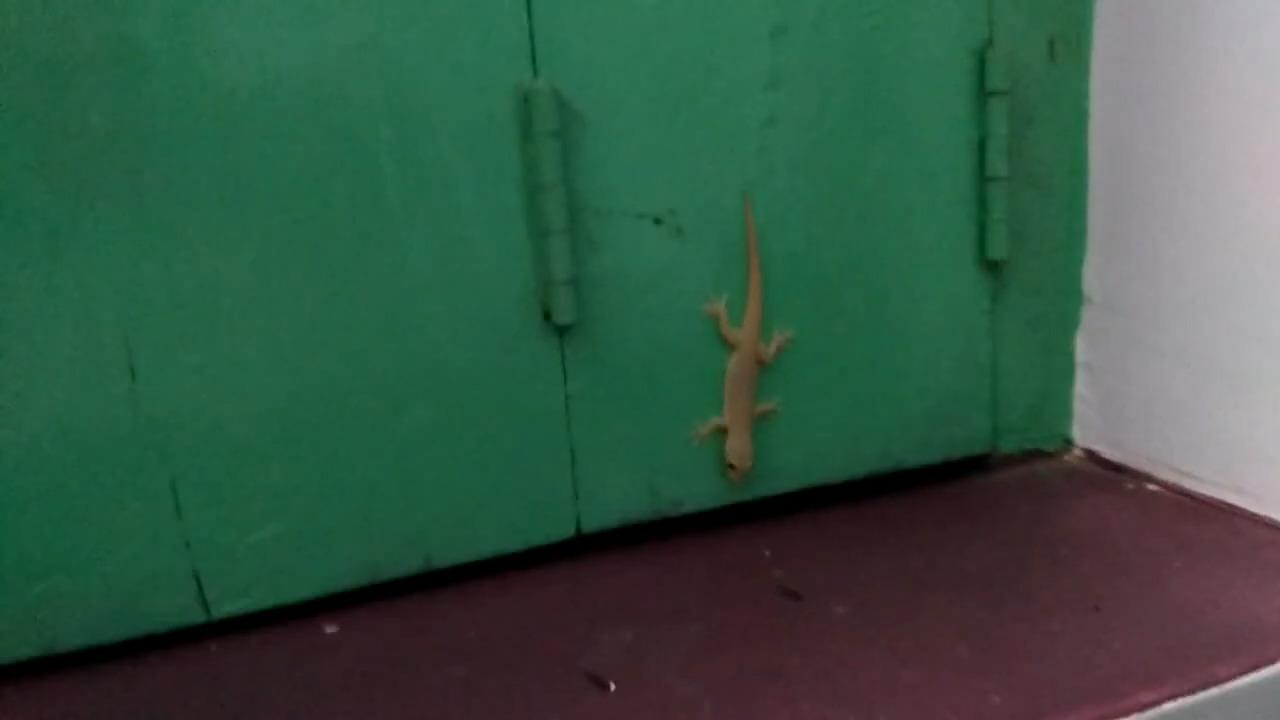lizard: (682, 179, 798, 494)
